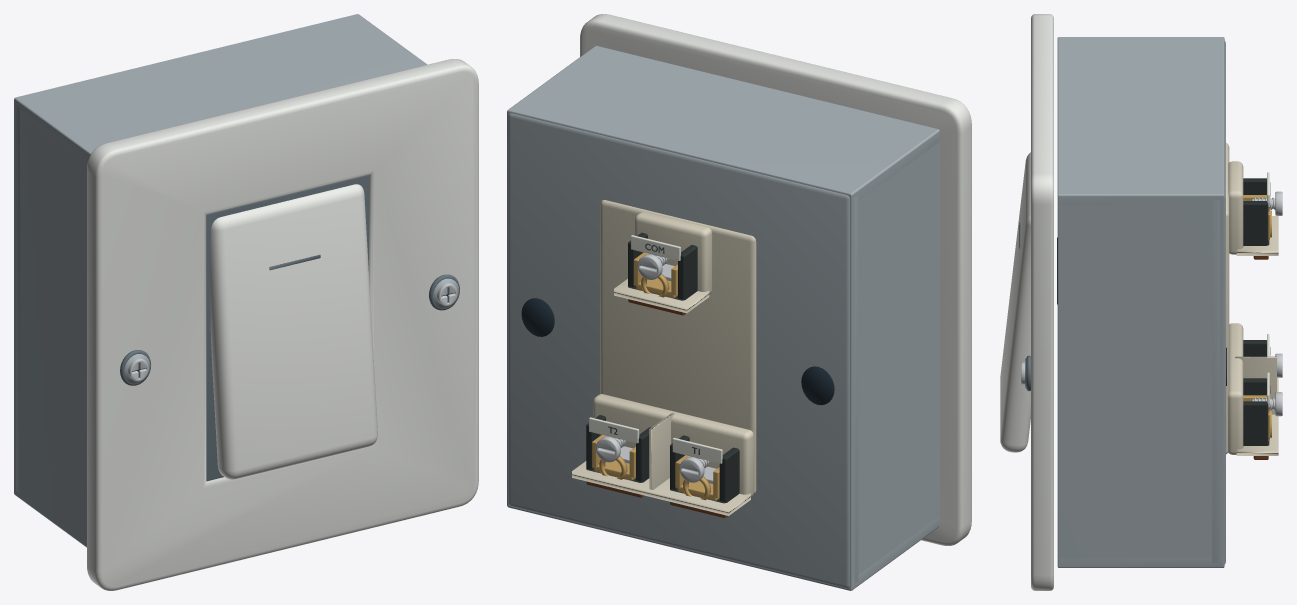
File: switch2_single-rocker.glb
3 renders of one model, left to right at view 1: azimuth 30°, elevation 25°; view 2: azimuth 150°, elevation 25°; view 3: azimuth 270°, elevation 25°, orthographic. The views are drawn at different scales.
Parts seen in each view (by area): view 1: part:cover, part:body · Original 2a8198d3, motion:rocker, part:actuator, detail:faceplate-fixing · Detail zinc plated fixing, part:cover · Original 0905ee26; view 2: part:body · Original 2a8198d3, part:terminals · Original 5a609f27, part:cover, part:body · Original a463fd81, detail:terminal-clamp:T1 · Detail moulded engineering polyme, detail:terminal-clamp:COM · Detail moulded engineering polym, detail:terminal-clamp:T2 · Detail moulded engineering polyme, detail:terminal-clamp:T1 · Detail machined brass, detail:terminal-clamp:COM · Detail machined brass, detail:terminal-clamp:T2 · Detail machined brass, Moulded terminal legend pad.002, Moulded terminal legend pad.001 (+4 smaller); view 3: part:body · Original 2a8198d3, part:cover, part:terminals · Original 5a609f27, motion:rocker, detail:terminal-clamp:T2 · Detail moulded engineering polyme, detail:terminal-clamp:COM · Detail moulded engineering polym, detail:terminal-clamp:T1 · Detail moulded engineering polyme.
Part boxes in pixels (x1,y1,x2,y2): part:cover: (87, 59, 478, 590); part:body · Original 2a8198d3: (14, 14, 427, 547); motion:rocker: (210, 184, 377, 479); part:actuator: (206, 175, 368, 481); detail:faceplate-fixing · Detail zinc plated fixing: (128, 283, 457, 381); part:cover · Original 0905ee26: (120, 274, 459, 385); part:body · Original 2a8198d3: (507, 46, 939, 590); part:terminals · Original 5a609f27: (572, 200, 756, 515); part:cover: (580, 14, 971, 545); part:body · Original a463fd81: (521, 298, 834, 405); detail:terminal-clamp:T1 · Detail moulded engineering polyme: (670, 435, 739, 503); detail:terminal-clamp:COM · Detail moulded engineering polym: (628, 232, 697, 300); detail:terminal-clamp:T2 · Detail moulded engineering polyme: (586, 415, 651, 482); detail:terminal-clamp:T1 · Detail machined brass: (675, 455, 719, 500); detail:terminal-clamp:COM · Detail machined brass: (633, 252, 677, 298); detail:terminal-clamp:T2 · Detail machined brass: (592, 435, 635, 480); Moulded terminal legend pad.002: (589, 417, 639, 443); Moulded terminal legend pad.001: (672, 437, 722, 463); part:body · Original 2a8198d3: (1057, 37, 1225, 567); part:cover: (1031, 14, 1053, 590); part:terminals · Original 5a609f27: (1226, 143, 1278, 455); motion:rocker: (1000, 152, 1030, 452); detail:terminal-clamp:T2 · Detail moulded engineering polyme: (1243, 378, 1269, 445); detail:terminal-clamp:COM · Detail moulded engineering polym: (1243, 178, 1269, 245); detail:terminal-clamp:T1 · Detail moulded engineering polyme: (1243, 340, 1266, 356).
Bounding box in the file's own units: 0.8918 × 0.9813 × 0.6055.
